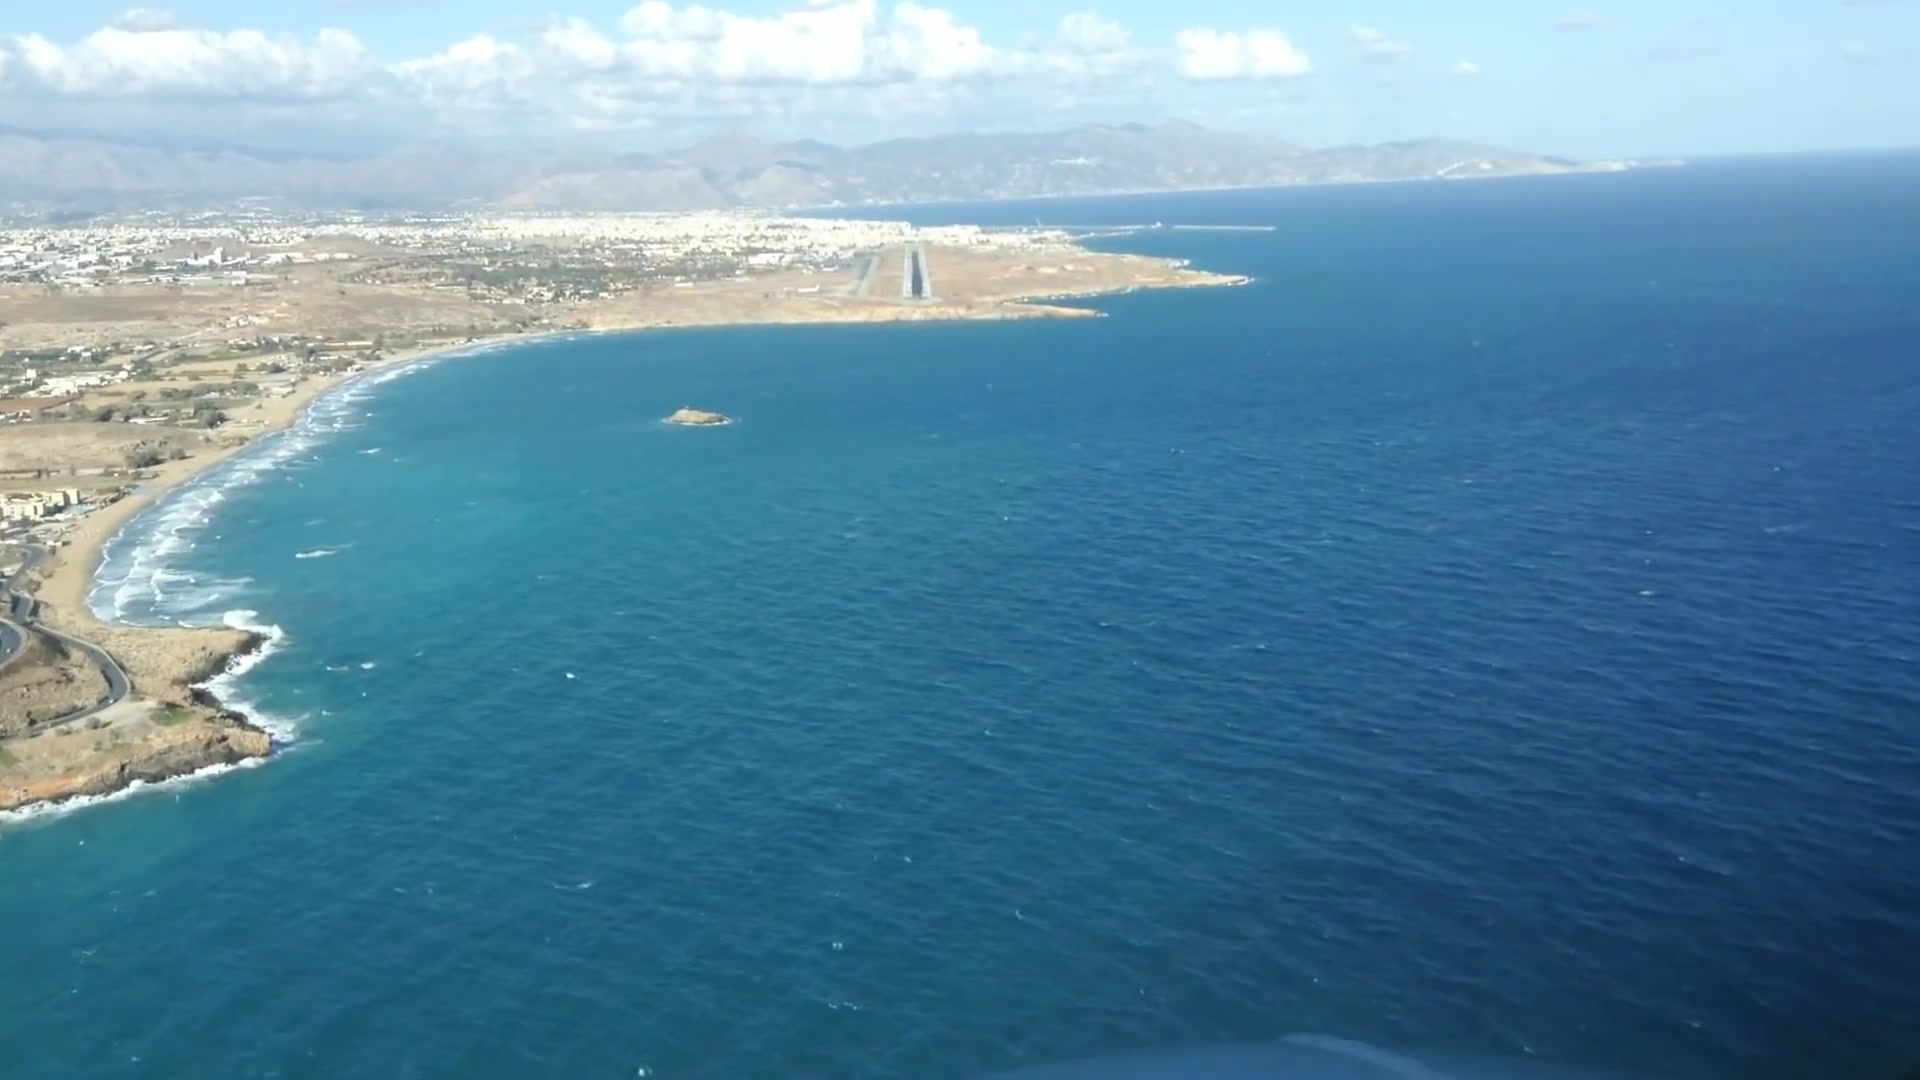runway: (899, 245, 934, 302)
